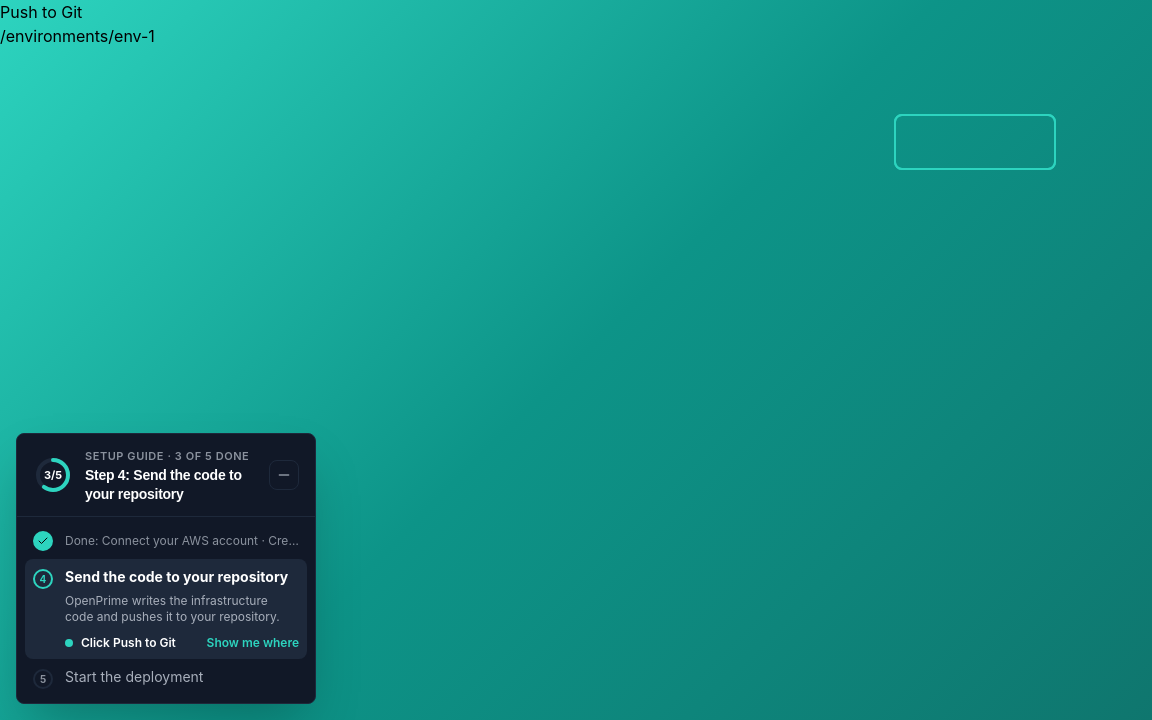
it: GuideDock › shows where to click on request and goes quiet again on Escape
Click the button "Show me where". click: (253, 643)
box: [207,635,299,651]
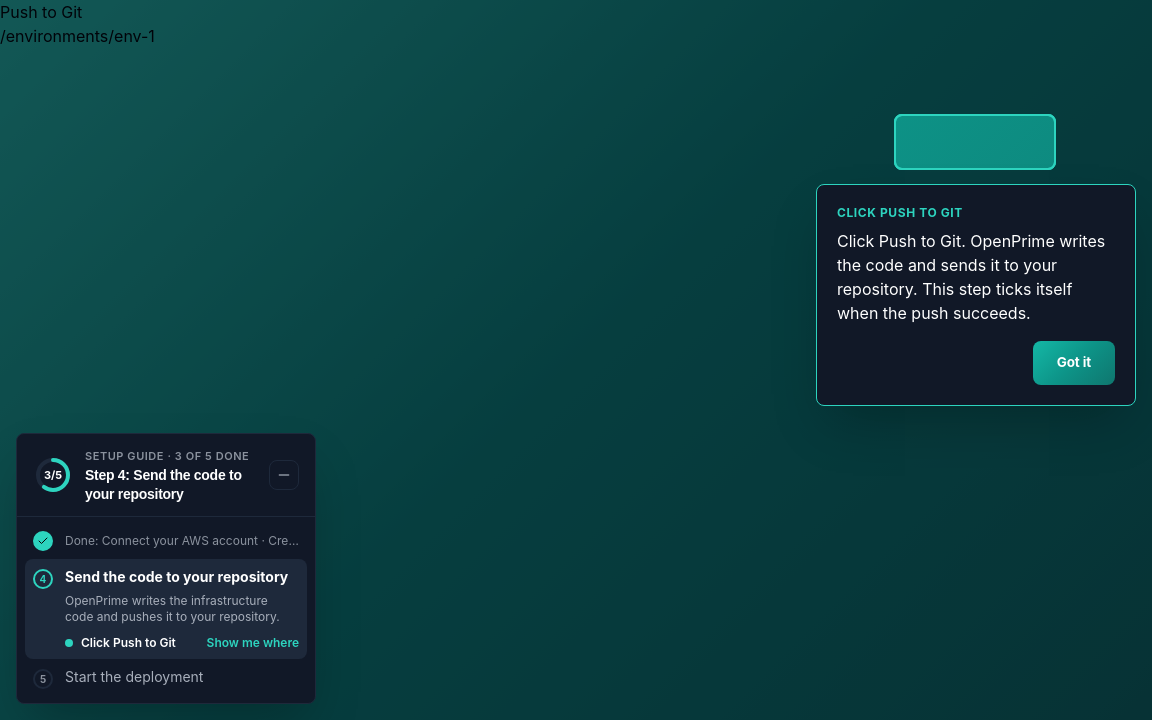
Result: the dialog "Click Push to Git" shows "OpenPrime writes the code and sends it to your repository." at [837,231,1105,323]
Press Escape
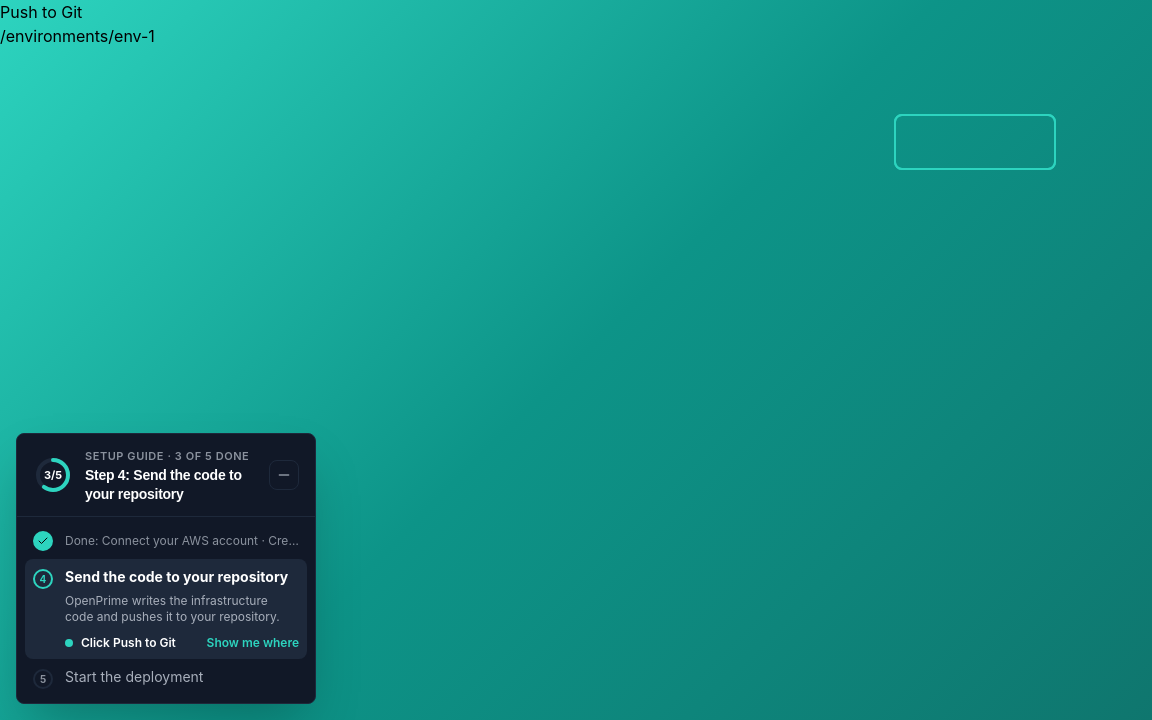
Result: the dialog is gone
